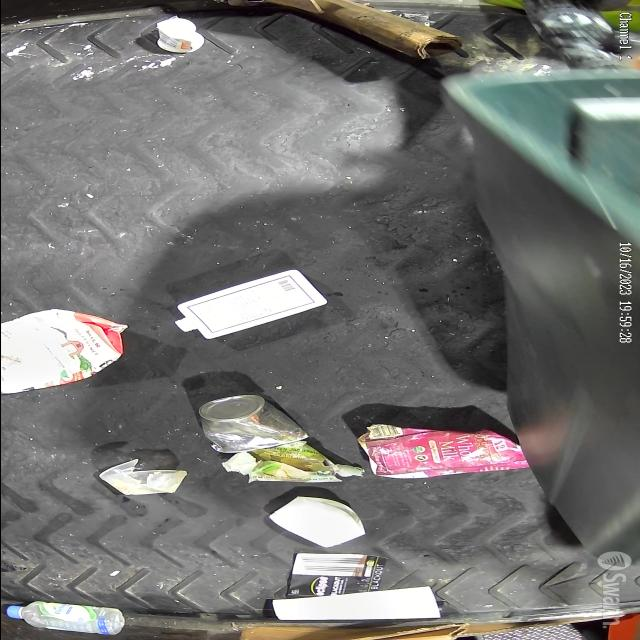can: (188, 393, 318, 461)
plastic_bottle: (0, 602, 132, 640)
